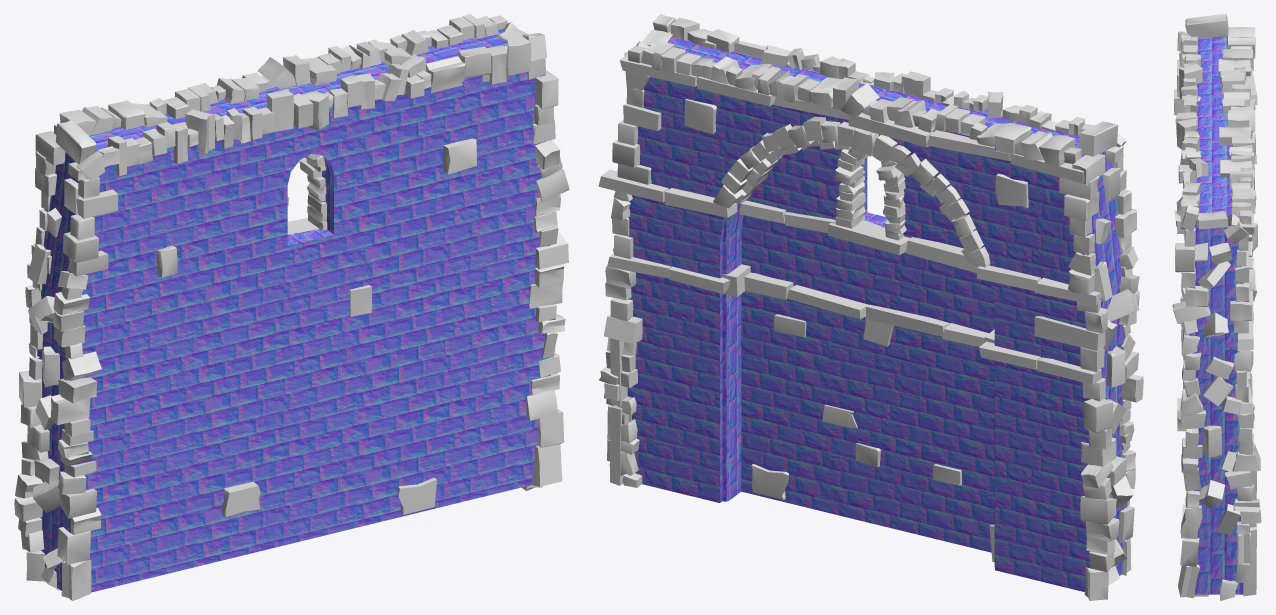
The model's file is RUINED_WALL_LOD0.fbx.
The picture shows the model from 3 angles, left to right: view 1: azimuth 30°, elevation 25°; view 2: azimuth 150°, elevation 25°; view 3: azimuth 270°, elevation 25°; orthographic projection. The views are drawn at different scales.
Parts seen in each view (by area): view 1: RUINED_WALL; view 2: RUINED_WALL; view 3: RUINED_WALL.
Part boxes in pixels (x1=…): RUINED_WALL: x1=14, y1=14, x2=569, y2=600; RUINED_WALL: x1=598, y1=14, x2=1143, y2=600; RUINED_WALL: x1=1172, y1=14, x2=1261, y2=600.
Bounding box in the file's own units: 1841 × 1558 × 320.
